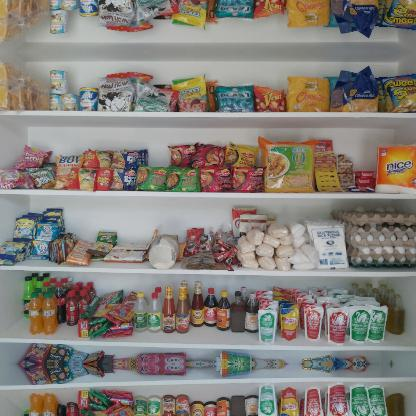Lady-s-Choice: (148, 233, 180, 268)
